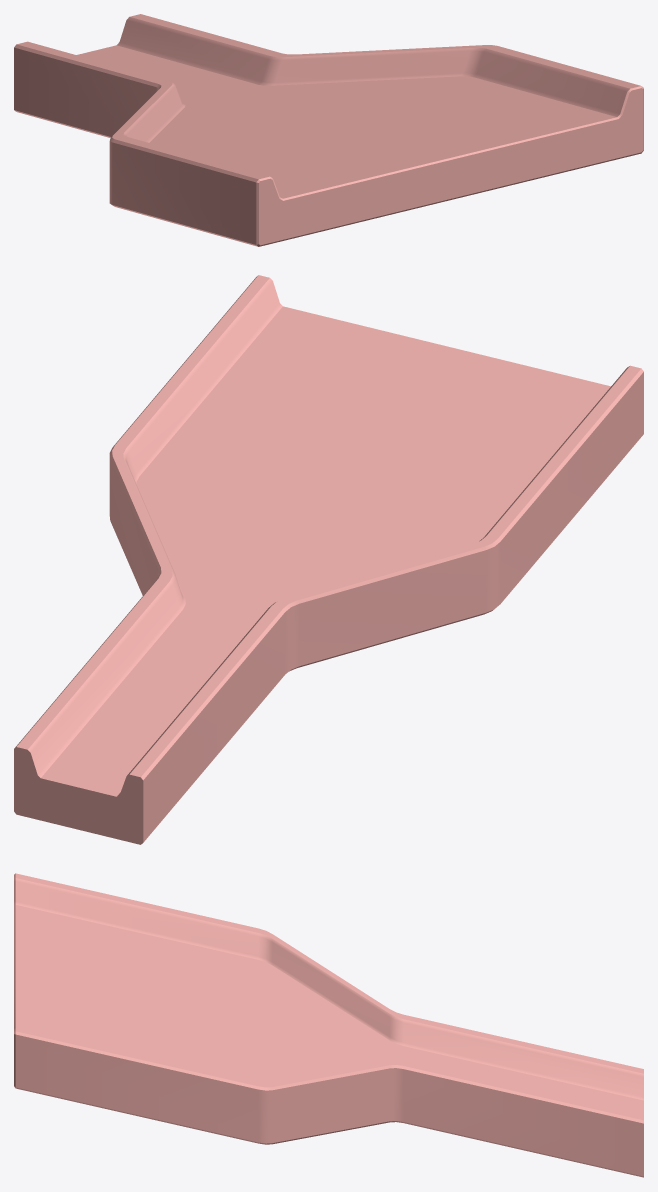
Rendered from Ramp_WideToSmallDown.fbx.
3 renders of one model, top to bottom at view 1: azimuth 30°, elevation 25°; view 2: azimuth 150°, elevation 25°; view 3: azimuth 270°, elevation 25°, orthographic. The views are drawn at different scales.
Parts seen in each view (by area): view 1: Ramp_StraighWideToSmallDown; view 2: Ramp_StraighWideToSmallDown; view 3: Ramp_StraighWideToSmallDown.
Part boxes in pixels (bbox=[...]): Ramp_StraighWideToSmallDown: bbox=[14, 14, 643, 246]; Ramp_StraighWideToSmallDown: bbox=[14, 275, 643, 844]; Ramp_StraighWideToSmallDown: bbox=[14, 873, 643, 1177].
Bounding box in the file's own units: 120 × 69.82 × 200.
